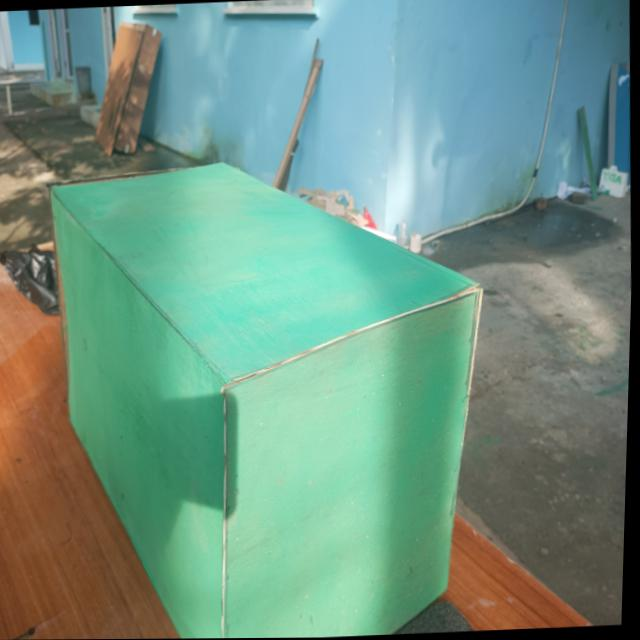green_box: (16, 120, 546, 640)
